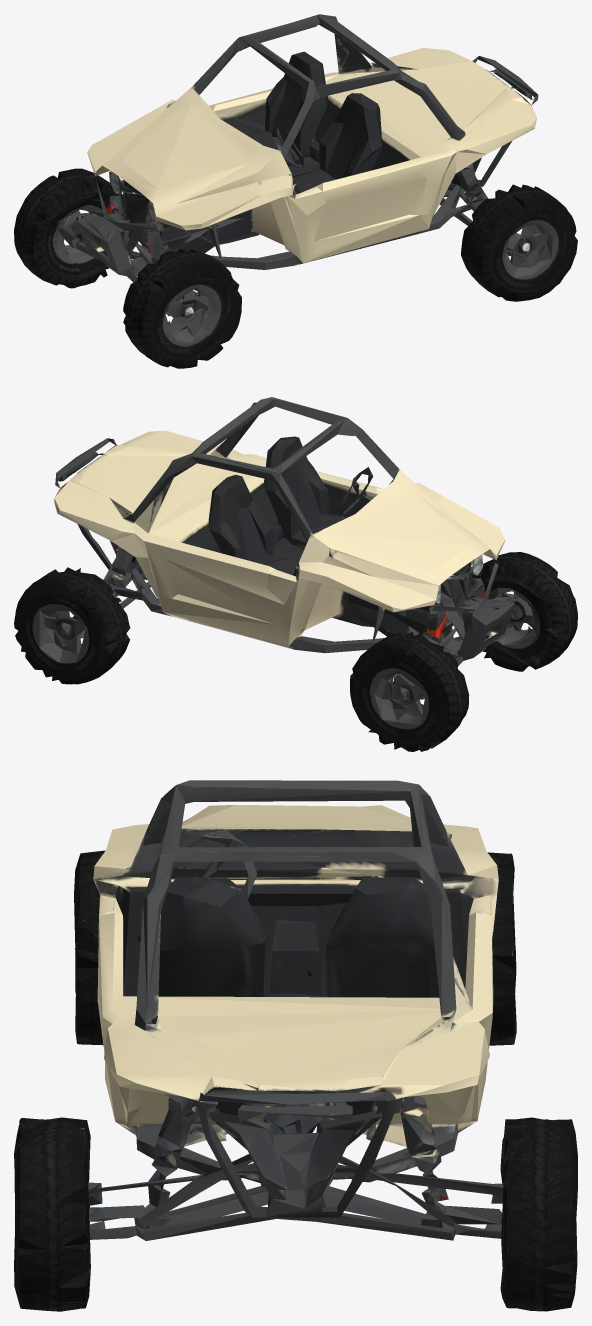
Rendered from car_hull.glb.
3 views of the same model, one above another, from view 1: azimuth 30°, elevation 25°; view 2: azimuth 150°, elevation 25°; view 3: azimuth 270°, elevation 25° (orthographic). The views are drawn at different scales.
Bounding box in the file's own units: 1.9 × 0.9298 × 1.25.
1 material, 1 textured.
